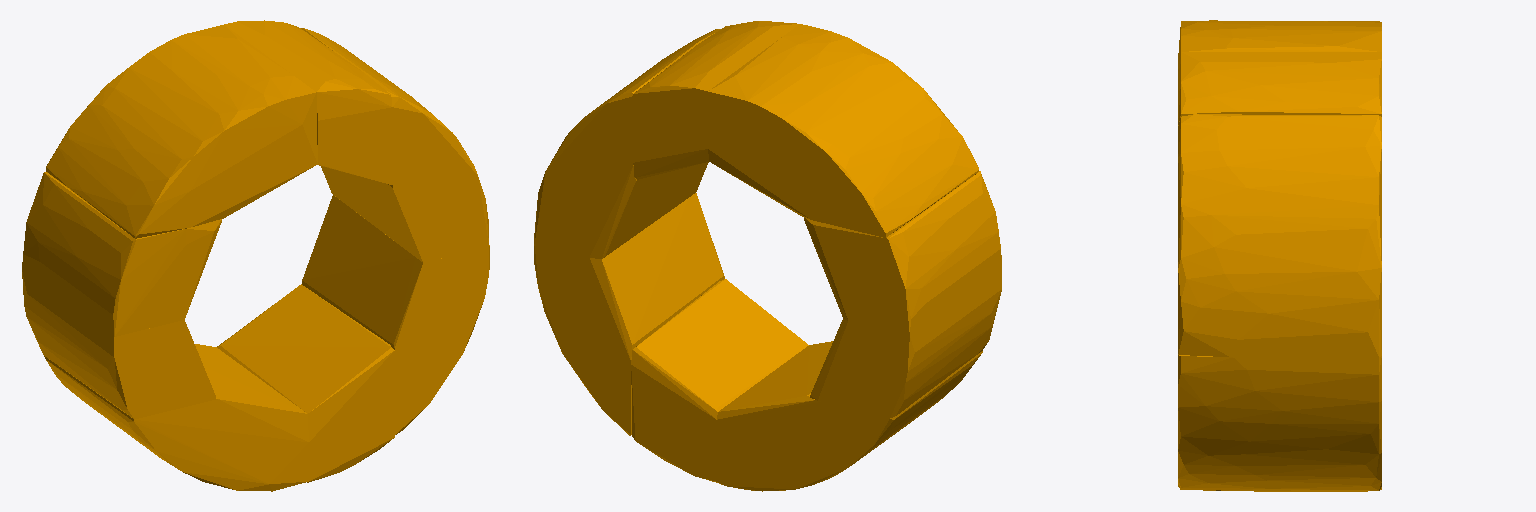
robot.urdf — tape:
<?xml version="1.0"?>
<robot name="tape">

  <link name="base_link">
    <visual>
      <geometry>
        <mesh filename="package://tape/tape_vhacd.obj" scale="1 1 1"/>
      </geometry>
    </visual>
    <collision>
      <geometry>
        <mesh filename="package://tape/tape_vhacd.obj" scale="1 1 1" />
      </geometry>
    </collision>
    <inertial>
      <mass value="1.0"/>
      <inertia ixx="0.01" ixy="0.0" ixz="0.0" iyy="0.01" iyz="0.0" izz="0.01"/>
    </inertial>
  </link>

</robot>

--- Facts derived from the render (not from the file) ---
3 views of the same robot in one strip: view 1: azimuth 30°, elevation 25°; view 2: azimuth 150°, elevation 25°; view 3: azimuth 270°, elevation 25° (orthographic).
Model tape with 1 links and 0 joints (none), rooted at base_link, posed every joint at zero.
Links seen in each view (by area): view 1: base_link; view 2: base_link; view 3: base_link.
Link boxes in pixels (left/top/right/bottom): base_link: left=22, top=20, right=489, bottom=491; base_link: left=534, top=21, right=1001, bottom=491; base_link: left=1178, top=20, right=1381, bottom=491.
Size in the robot's own frame: 0.1189 by 0.0511 by 0.1182 metres.
1 mesh visuals loaded from 1 distinct referenced files (1 OBJ).